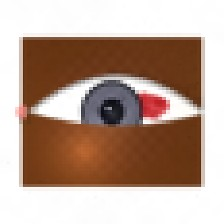hemorrhage_spot: (107, 77, 179, 135)
